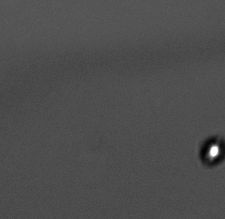Living Cell: (198, 132, 223, 169)
